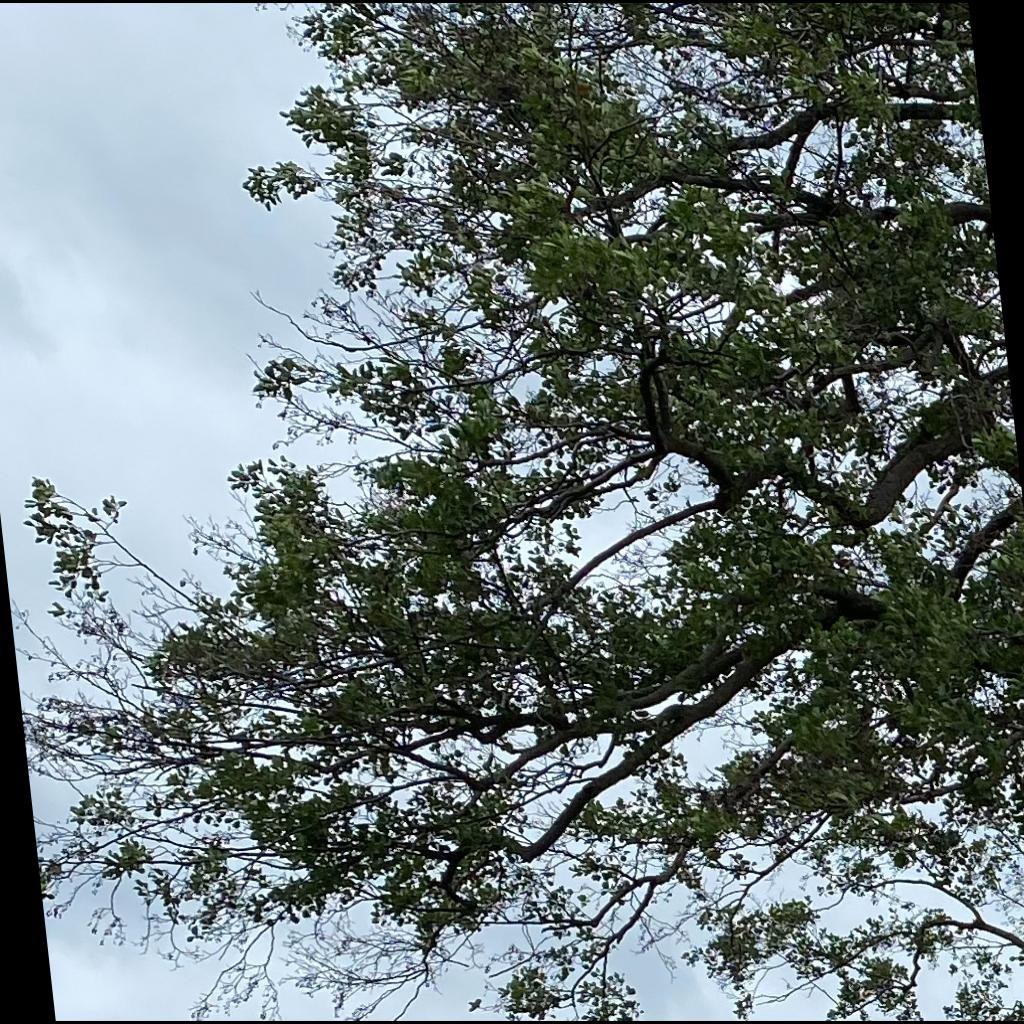tree: (11, 3, 1023, 1020)
